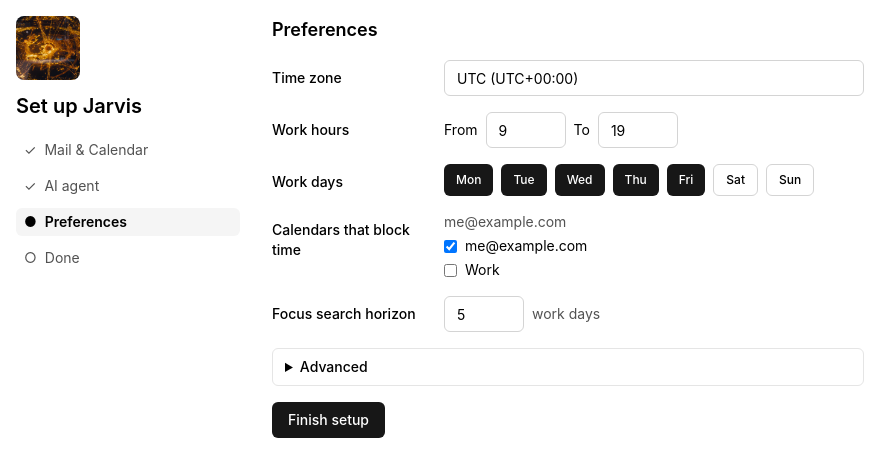
preferences step › submits the exact settings body (endHour 24 allowed) then the busy calendars, and goes to done
Replace the text in the dropdown labelled "Time zone" with "madrid". click: [654, 78]
box: [444, 60, 864, 96]
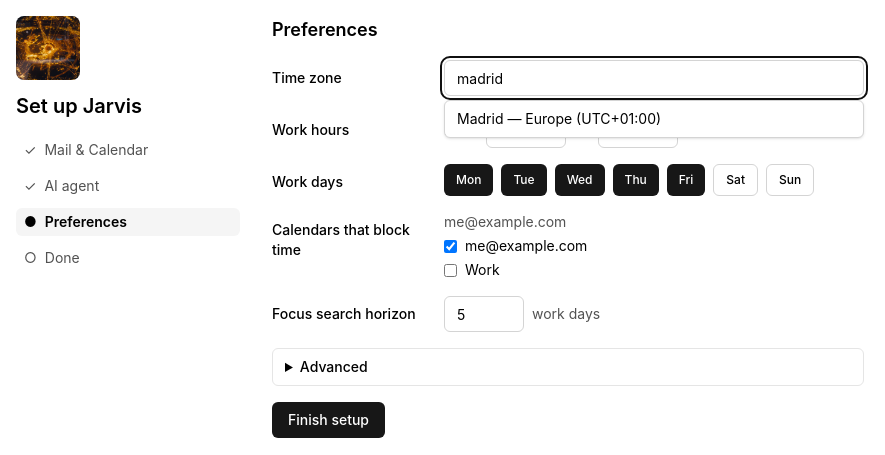
Click the option "Madrid — Europe (UTC+01:00)". click: [559, 118]
box: [457, 110, 661, 127]
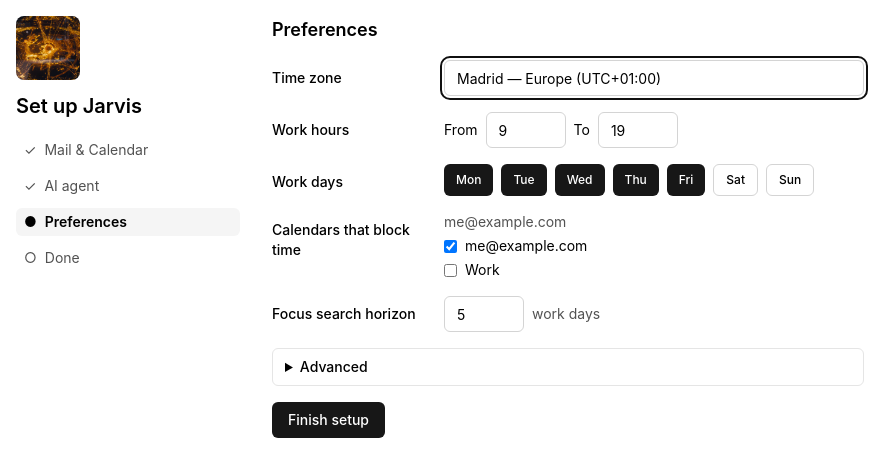
Replace the text in the number field labelled "To" with "24". click: [638, 130]
box: [598, 112, 678, 148]
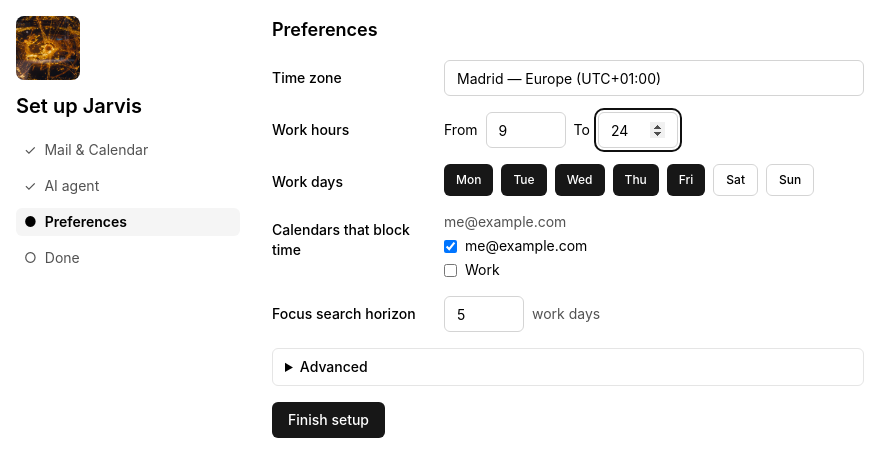
Click the button "Sat". click: [736, 180]
box: [713, 164, 758, 196]
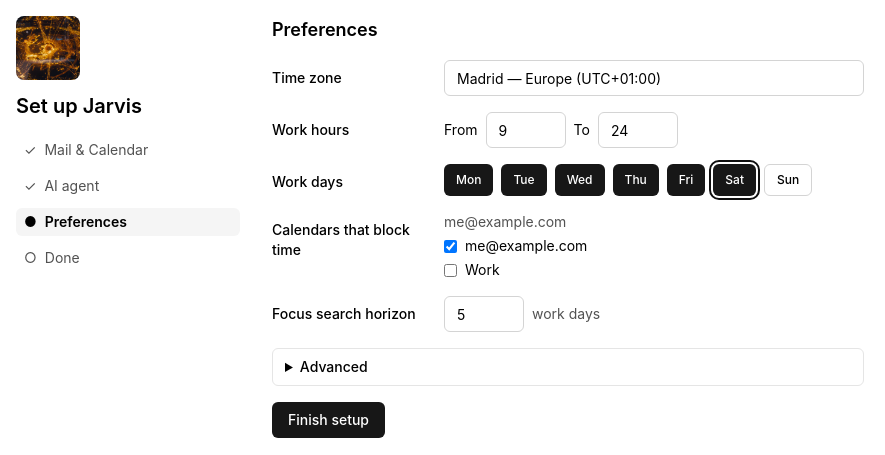
Click the checkbox labelled "Work". click: [450, 270]
box: [444, 264, 457, 276]
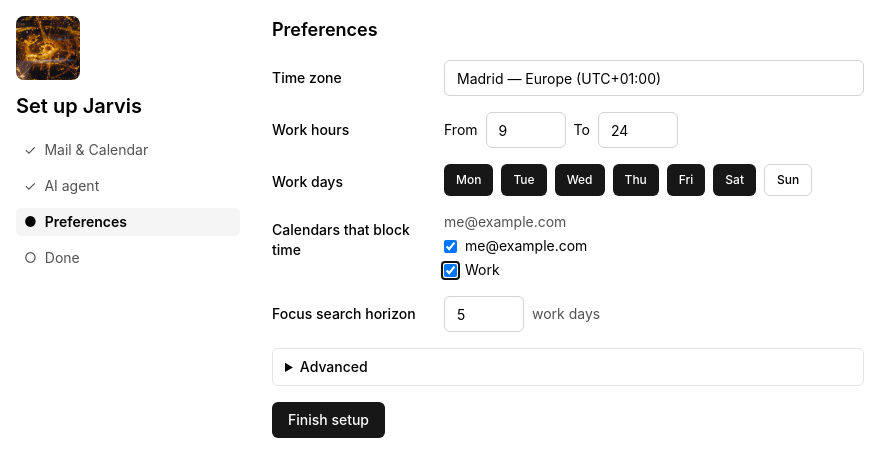
Click the button "Finish setup". click: [328, 420]
box: [272, 402, 385, 438]
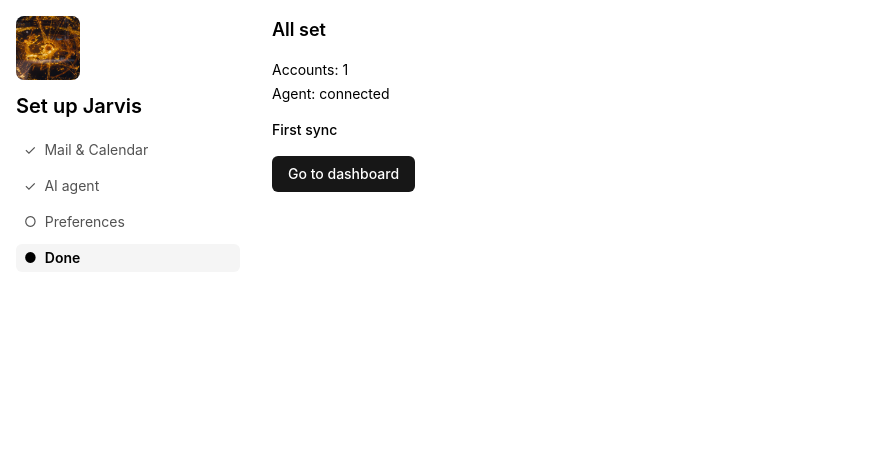
Check: the heading "All set" is shown, box [272, 19, 326, 40]
